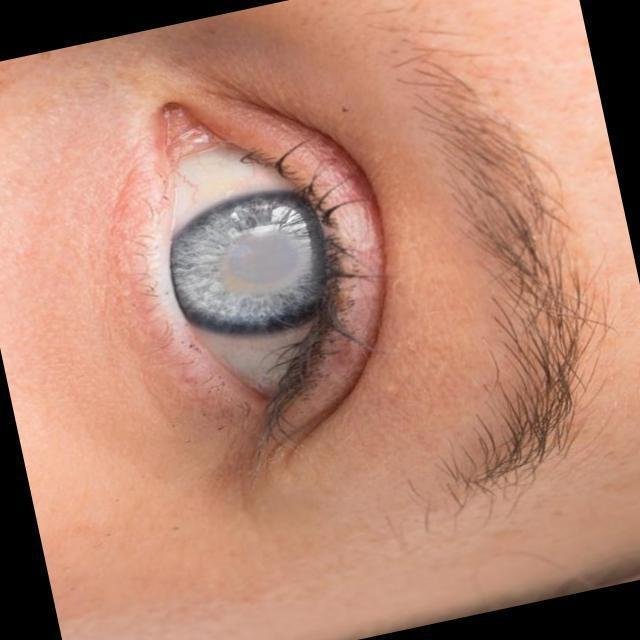Cataract: (157, 170, 350, 364)
